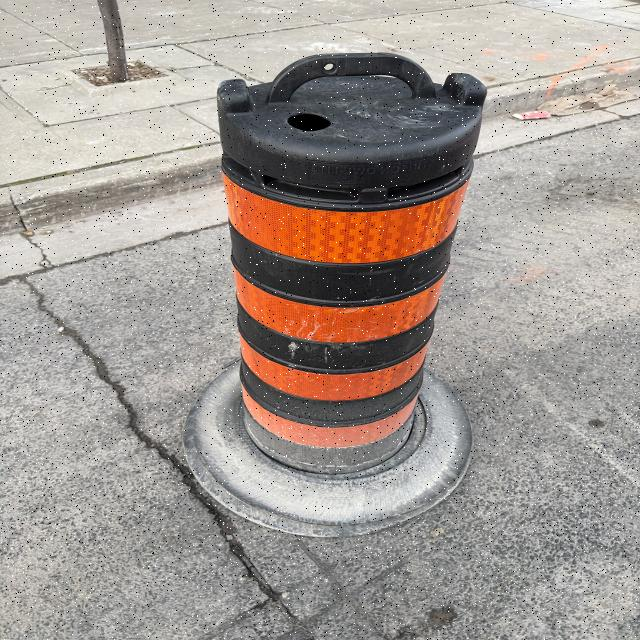Teraffic Barrel: (185, 54, 486, 535)
